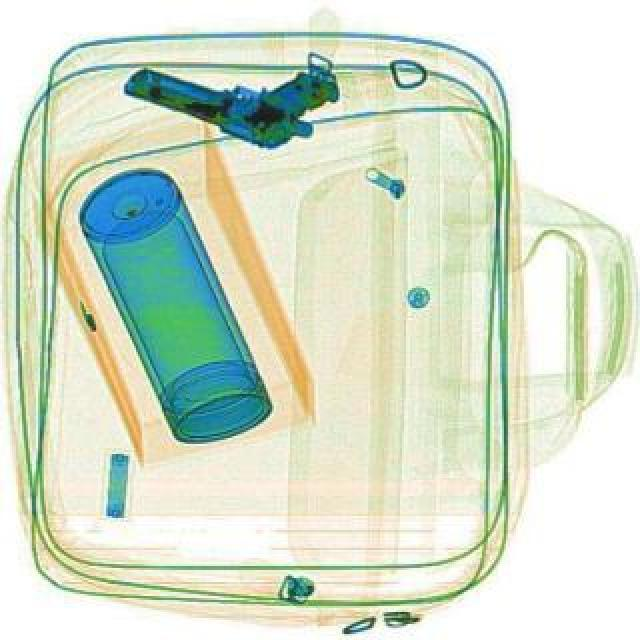gun: (120, 16, 340, 162)
